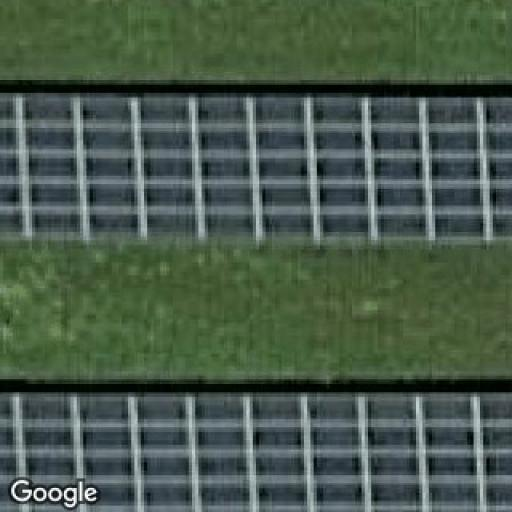solar-panel: (3, 98, 512, 240), (0, 397, 512, 512)
